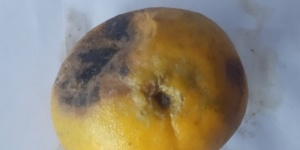BAD: (48, 10, 257, 150)
